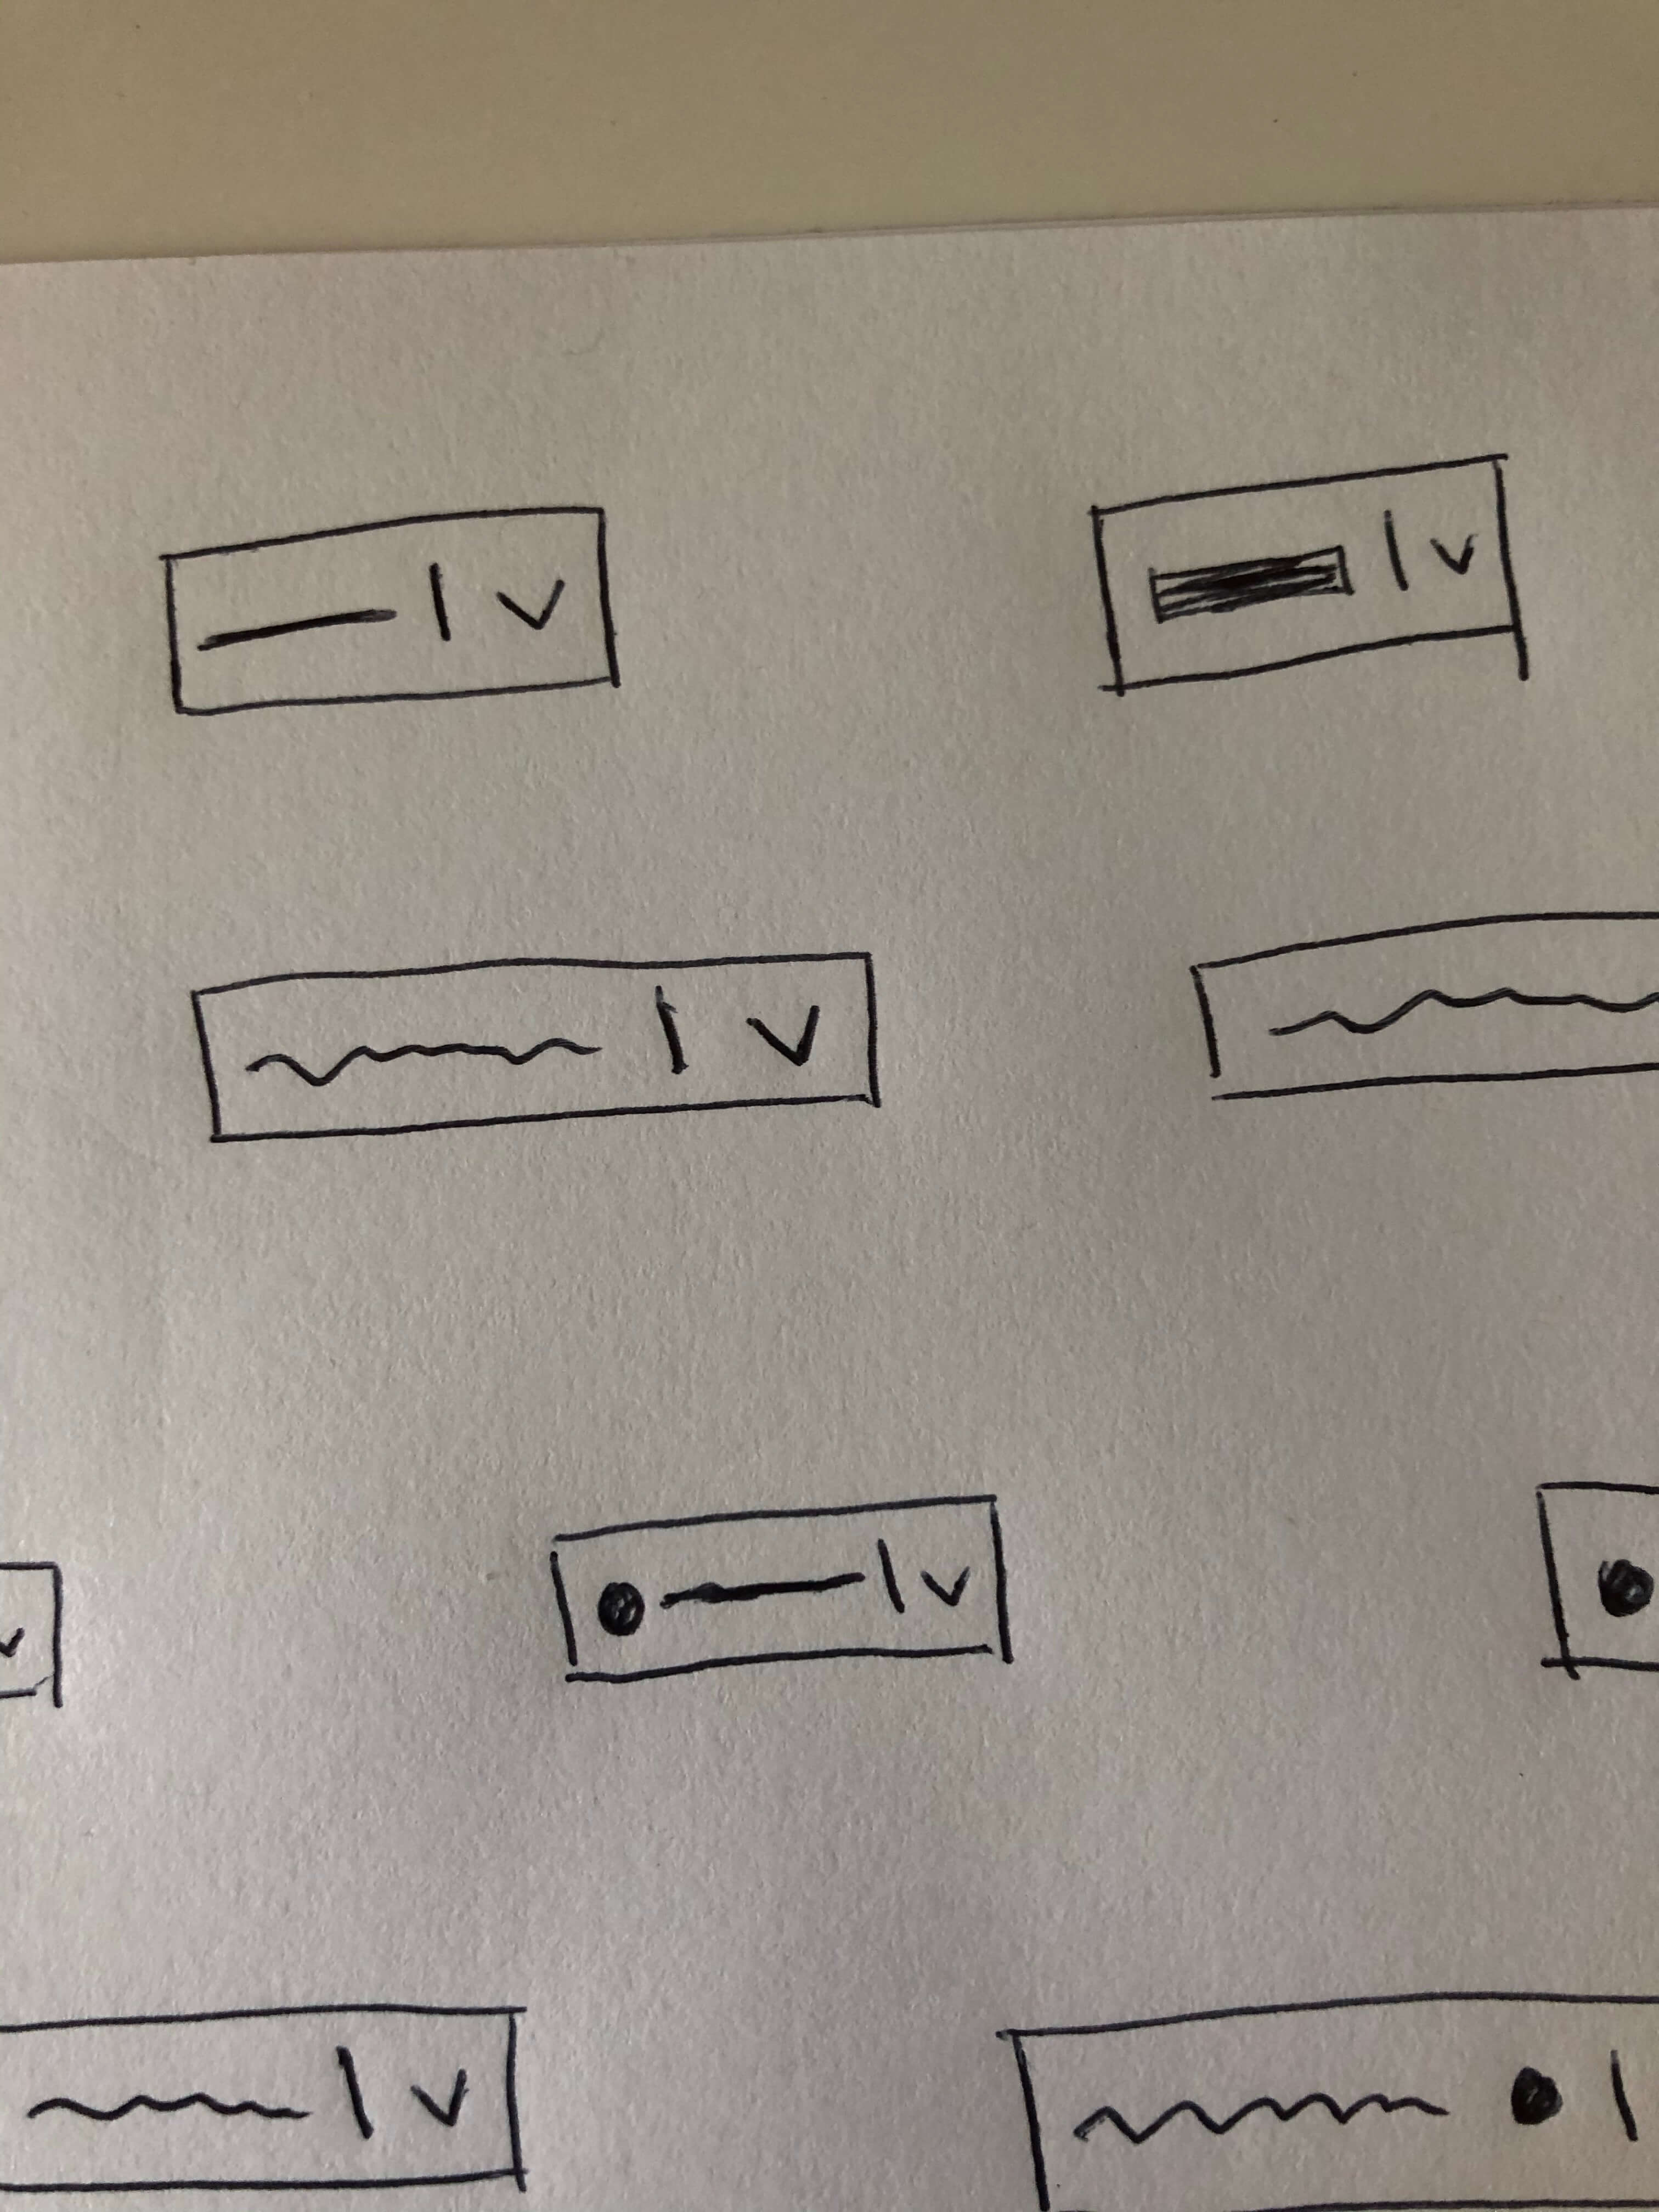split-button: (166, 939, 913, 1158), (141, 500, 652, 719)
